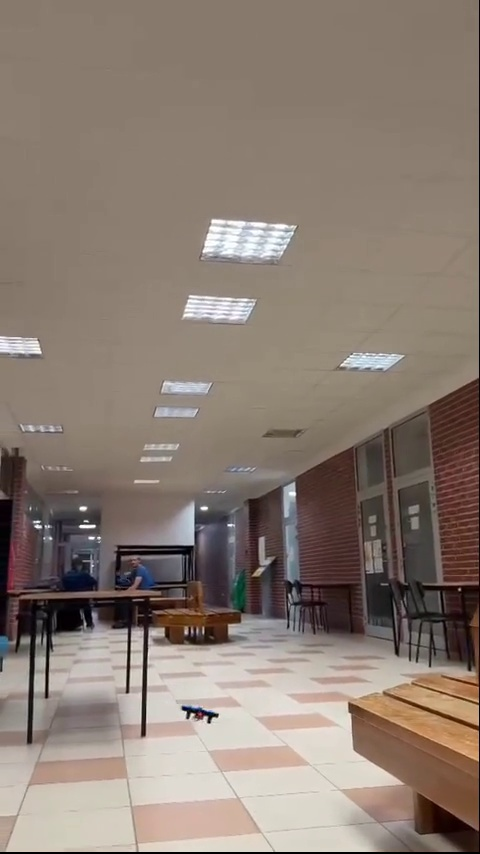drone: (181, 705, 219, 725)
no vest: (53, 544, 92, 608), (113, 548, 156, 601)
